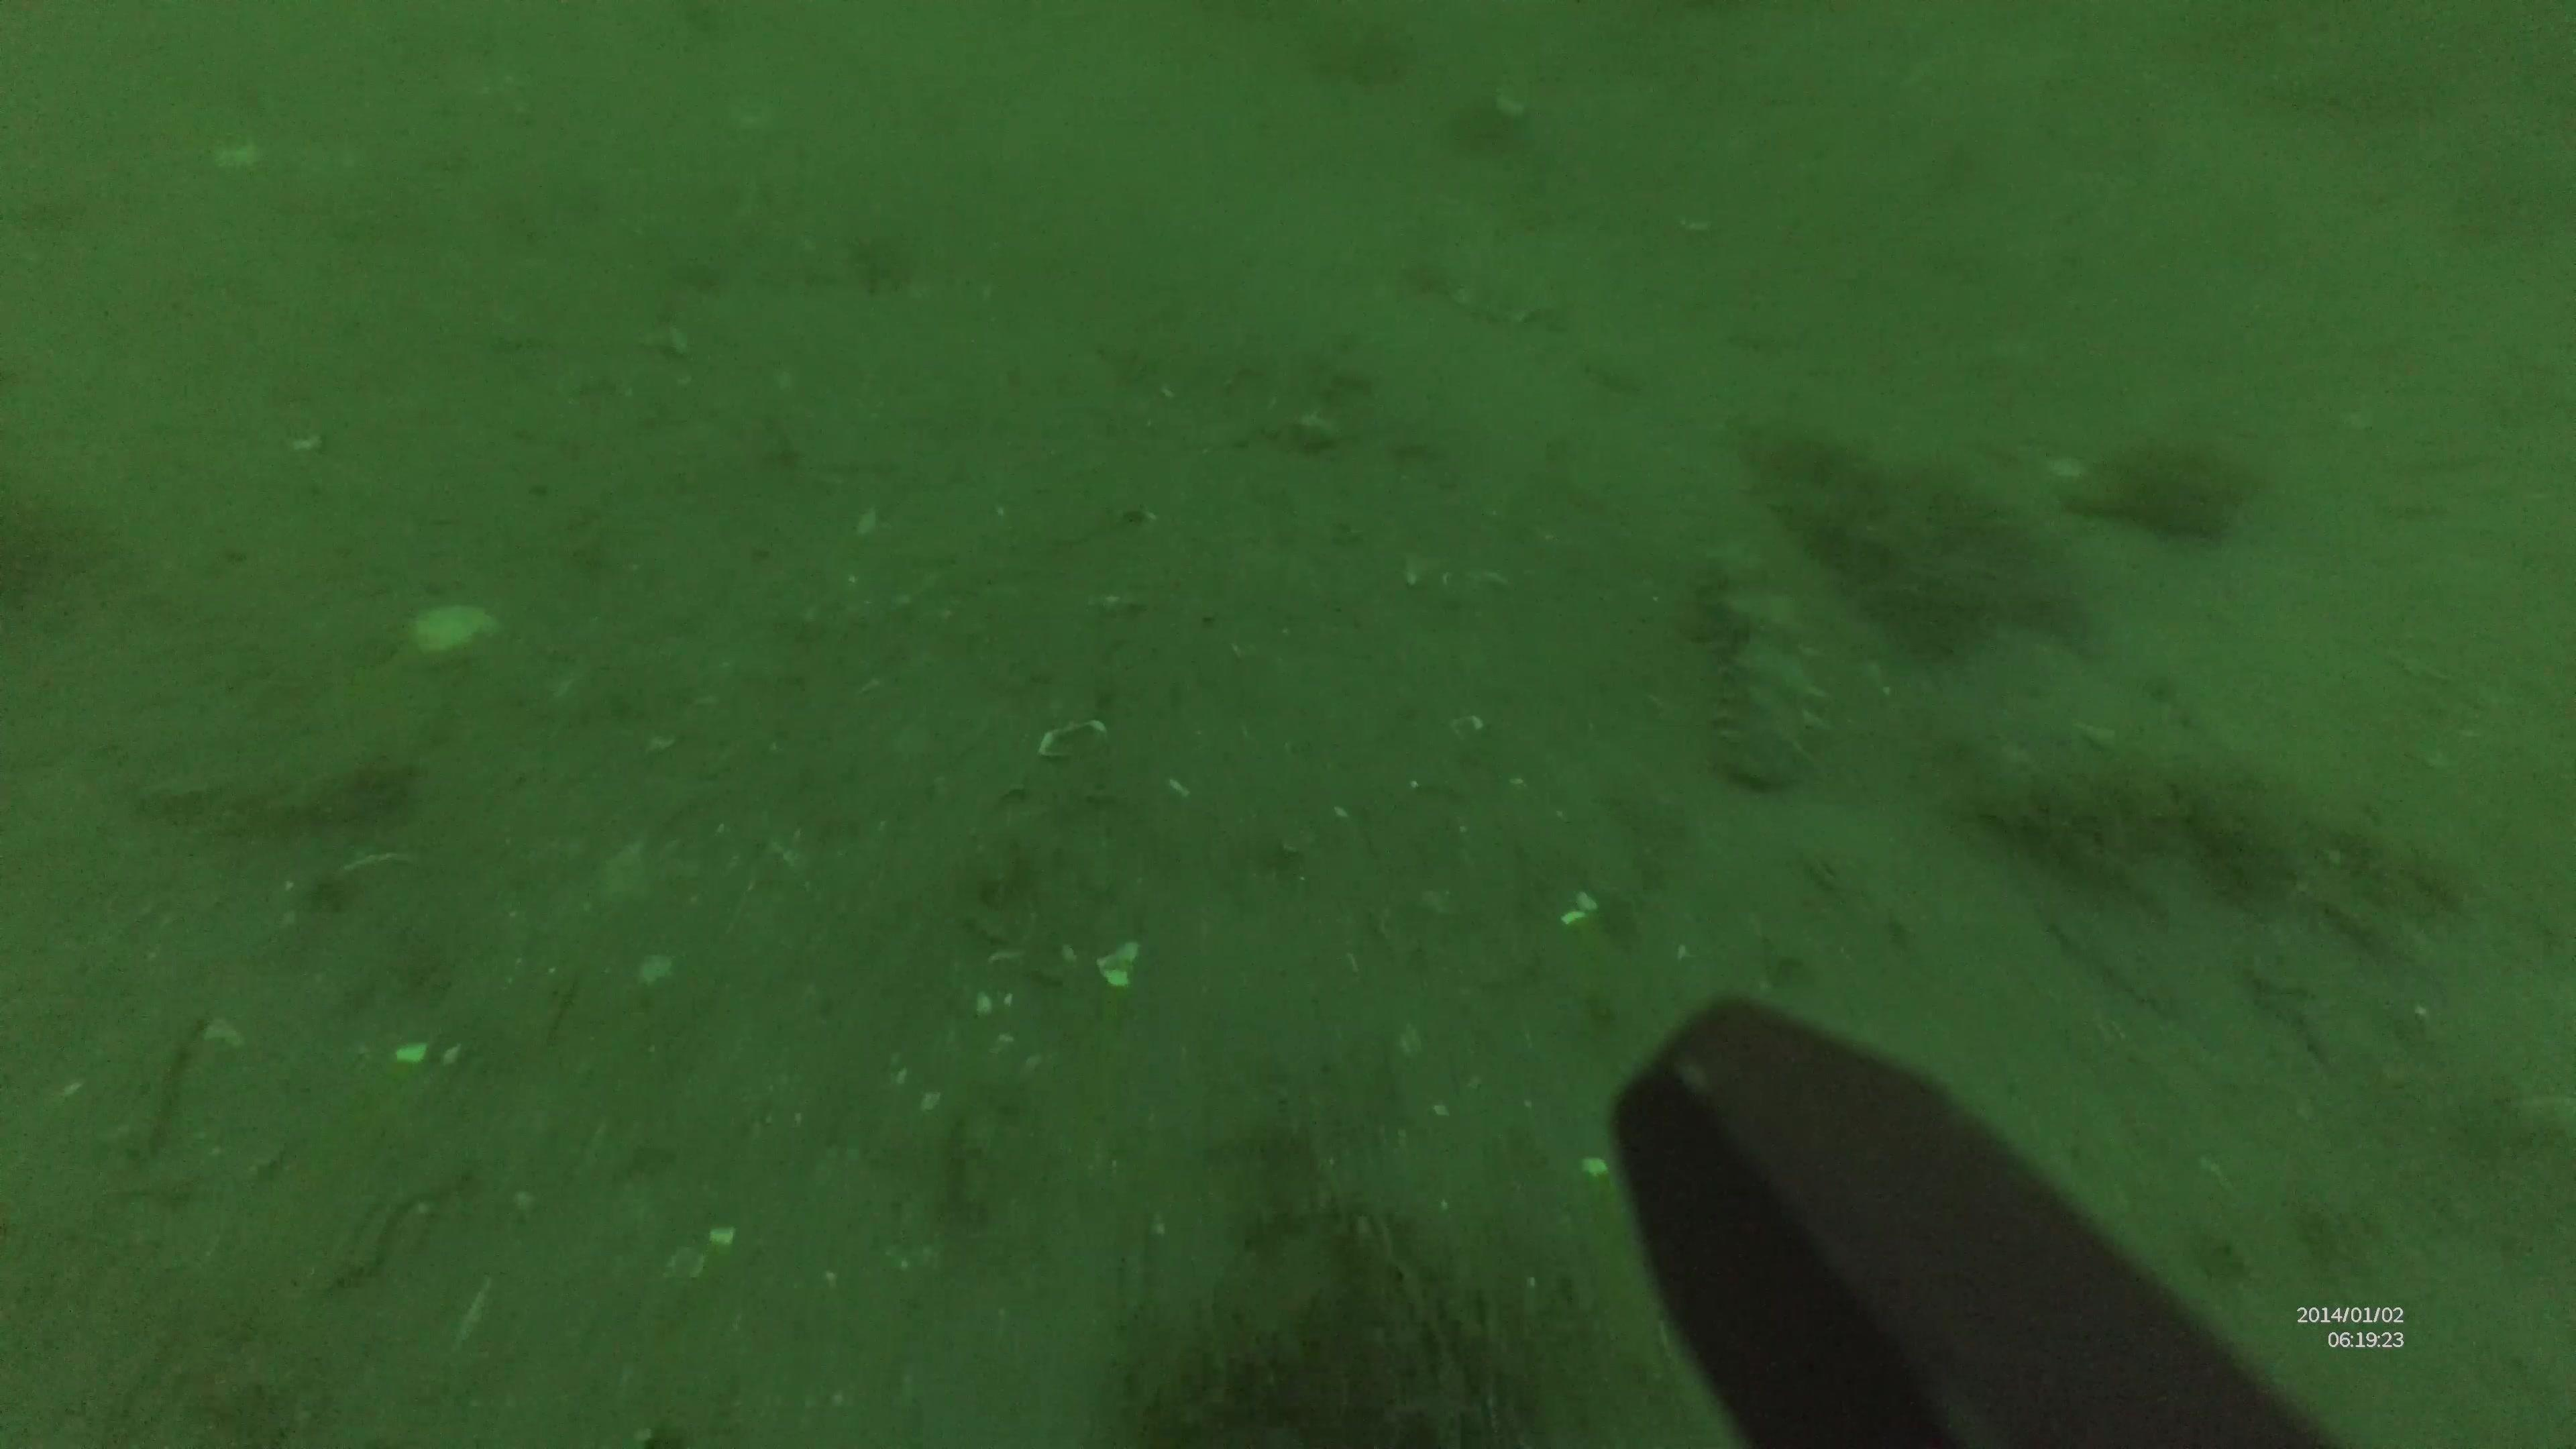holothurian: (1693, 548, 1819, 786)
